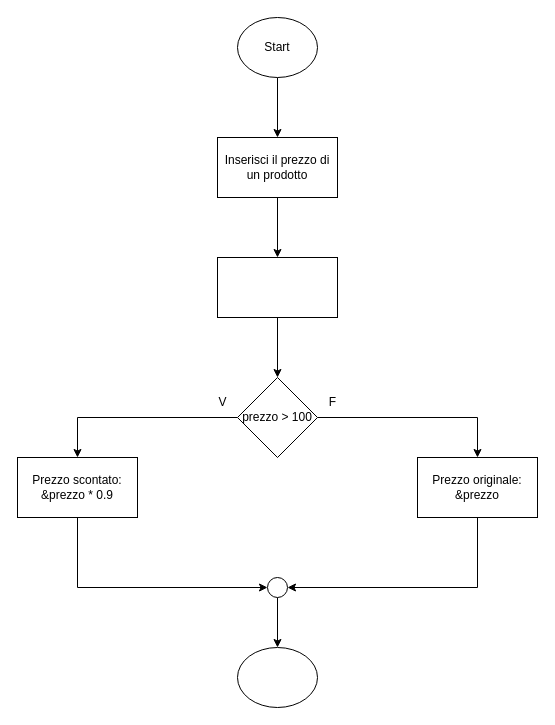
Image size: 555x725. Some labels were removed from this diagram. The shapes that lost their labels are listed below. From the top down, each one's box as (x1, y1, x2, y2) in pixels, then its label:
(216, 256, 338, 318): prezzo
(236, 646, 318, 708): End
